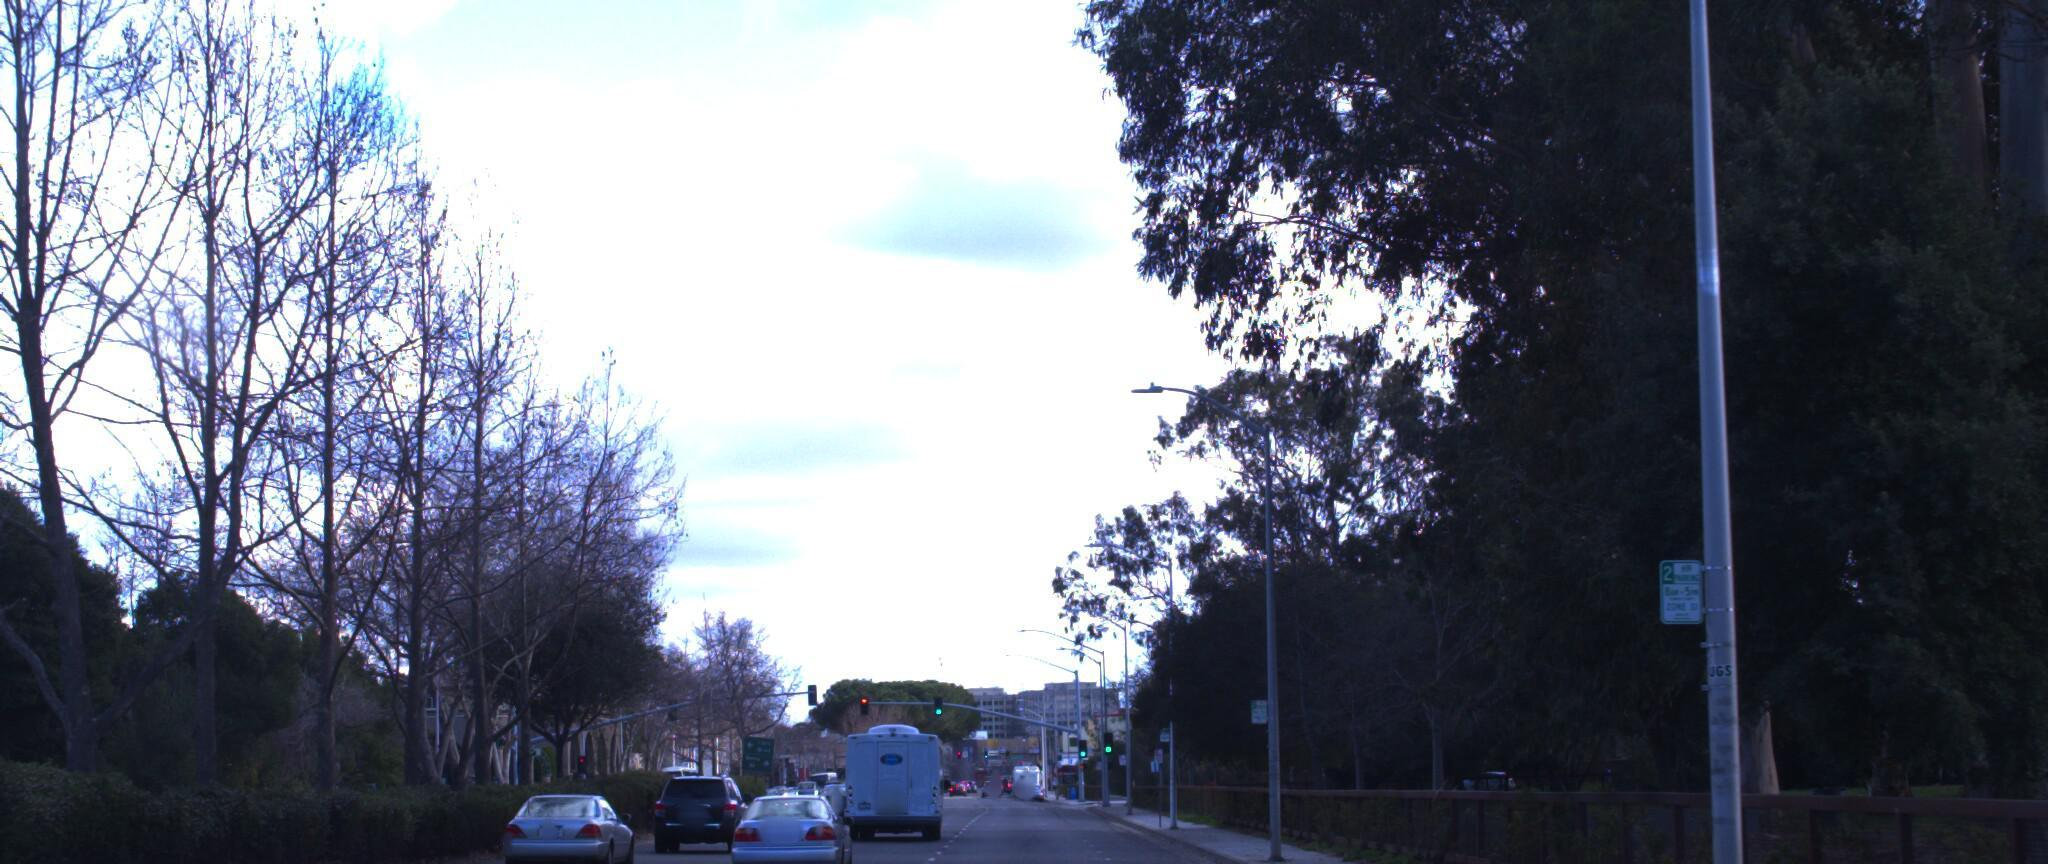bus: (837, 696, 967, 818)
car: (721, 767, 859, 864), (495, 764, 636, 857), (654, 749, 765, 831)
